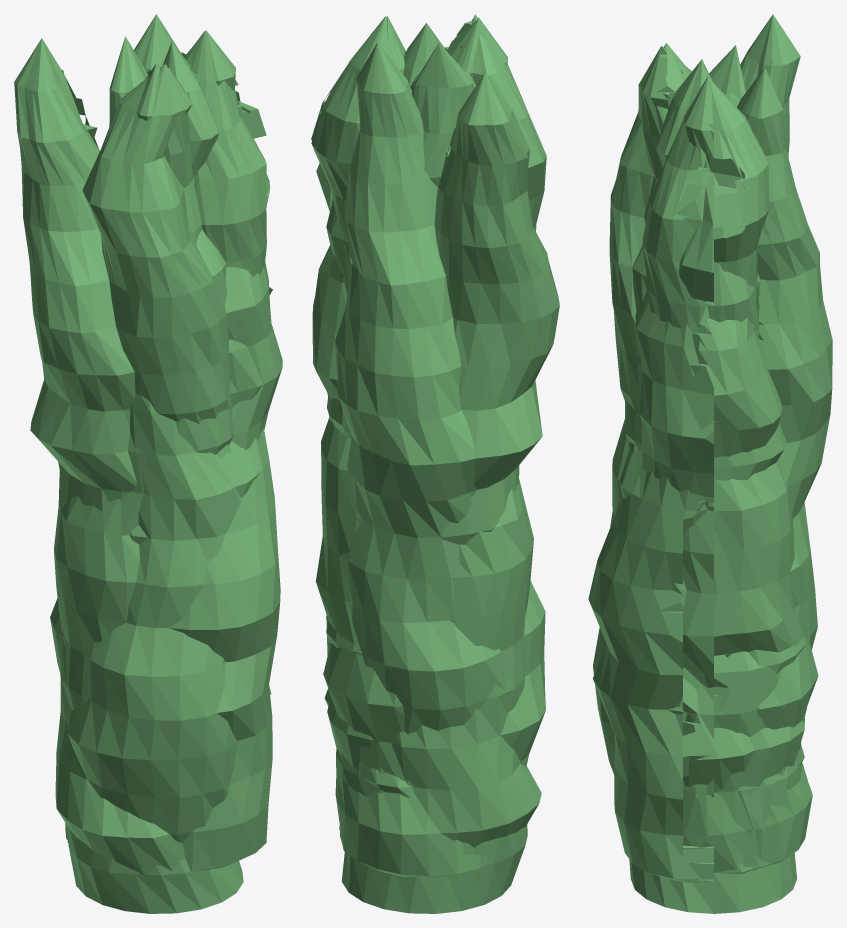
The model's file is Shrub.glb.
The picture shows the model from 3 angles, left to right: view 1: azimuth 30°, elevation 25°; view 2: azimuth 150°, elevation 25°; view 3: azimuth 270°, elevation 25°; orthographic projection. The views are drawn at different scales.
Visible parts, largest first — view 1: Mesh_Mesh_head_geo.001_lambert2SG.001; view 2: Mesh_Mesh_head_geo.001_lambert2SG.001; view 3: Mesh_Mesh_head_geo.001_lambert2SG.001.
Boxes of the visible parts, x1,y1,x2,y2 form: Mesh_Mesh_head_geo.001_lambert2SG.001: [14, 14, 282, 913]; Mesh_Mesh_head_geo.001_lambert2SG.001: [311, 14, 559, 913]; Mesh_Mesh_head_geo.001_lambert2SG.001: [588, 14, 832, 913].
Bounding box in the file's own units: 35.07 × 120 × 32.28.
